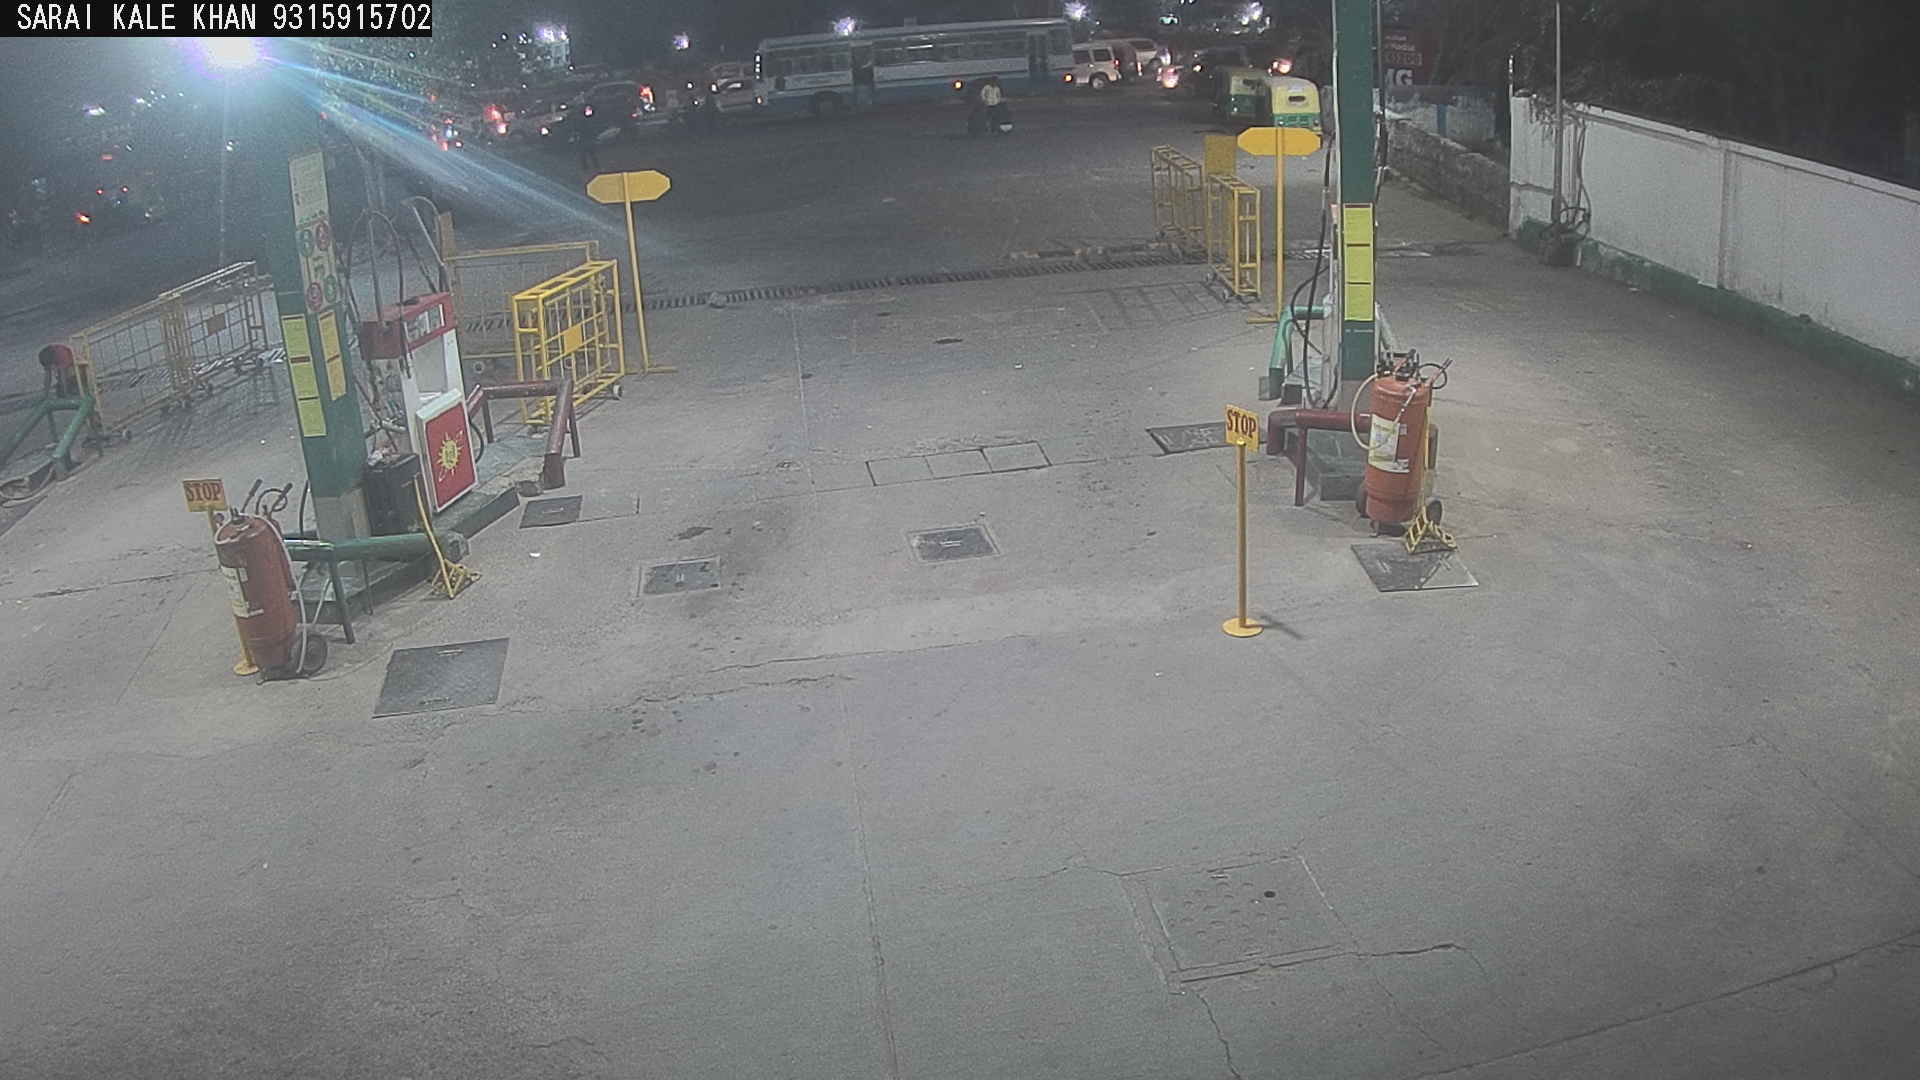Auto: (1249, 69, 1324, 152), (1204, 53, 1276, 133)
HMV: (735, 8, 1089, 132)
Others: (28, 330, 113, 455)
Others Other: (181, 458, 281, 687), (1204, 389, 1280, 654)
